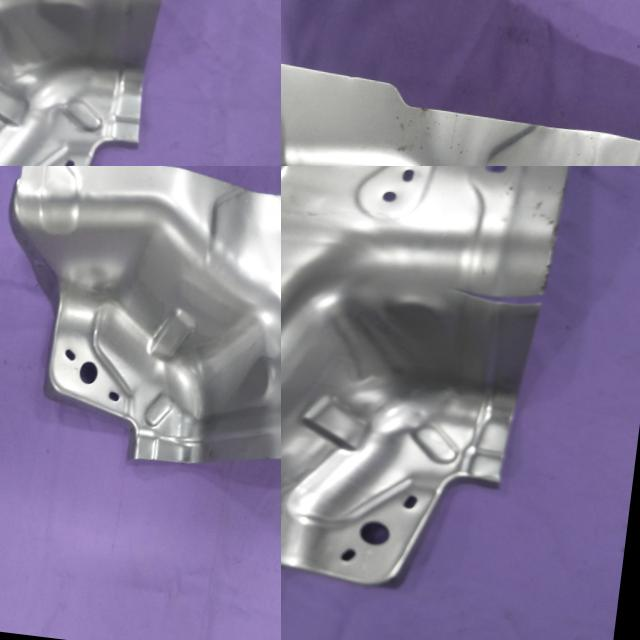Defect: (445, 277, 547, 325)
Healthy: (0, 166, 281, 501), (0, 0, 190, 166)
rust: (526, 212, 560, 286)
